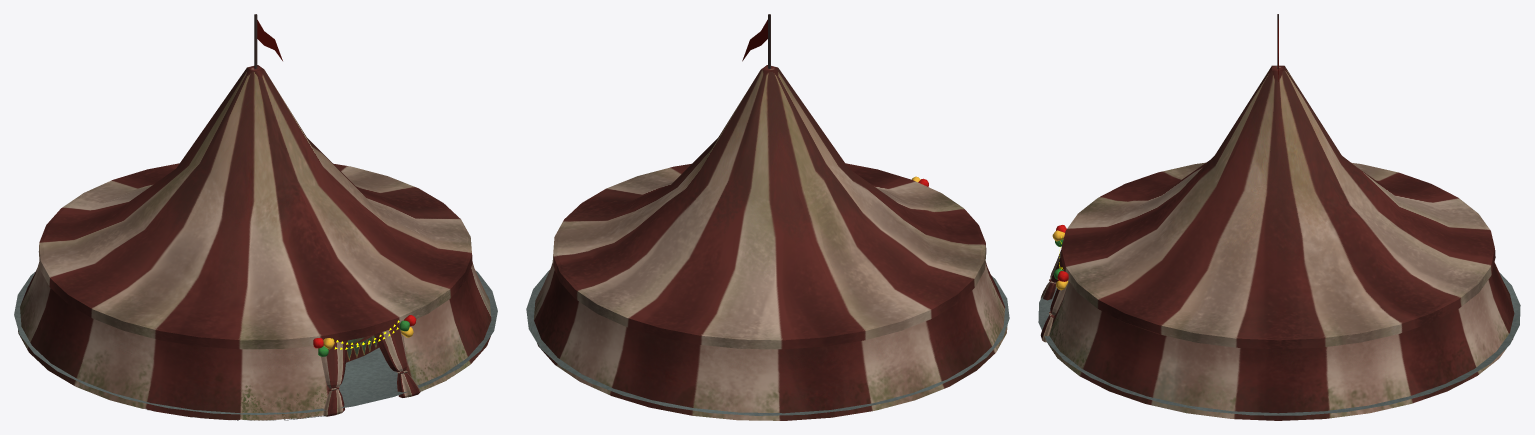
Rendered from Circus03.fbx.
The picture shows the model from 3 angles, left to right: view 1: azimuth 30°, elevation 25°; view 2: azimuth 150°, elevation 25°; view 3: azimuth 270°, elevation 25°; orthographic projection.
Visible parts, largest first — view 1: Circus_tent01, Circus_stage01.001, Circus_stage01; view 2: Circus_tent01, Circus_stage01.001; view 3: Circus_tent01, Circus_stage01.001.
Boxes of the visible parts, left/top/right/bottom form: Circus_tent01: left=18, top=14, right=491, bottom=420; Circus_stage01.001: left=14, top=271, right=497, bottom=414; Circus_stage01: left=346, top=334, right=379, bottom=362; Circus_tent01: left=534, top=14, right=1007, bottom=420; Circus_stage01.001: left=526, top=270, right=1009, bottom=415; Circus_tent01: left=1040, top=14, right=1514, bottom=420; Circus_stage01.001: left=1038, top=272, right=1520, bottom=415.
Size of the model in its own units: 46.6 by 32.72 by 46.6.
Materials: 13 (10 with a texture image).
